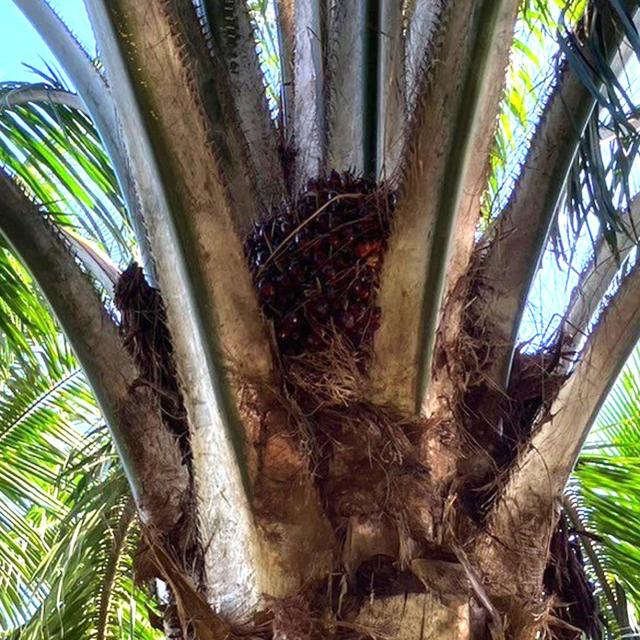ripe: (236, 158, 402, 388)
